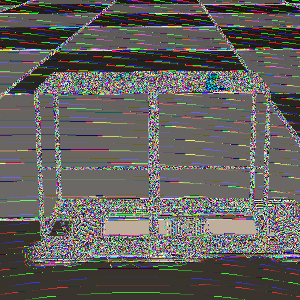Rack: (34, 69, 271, 253)
